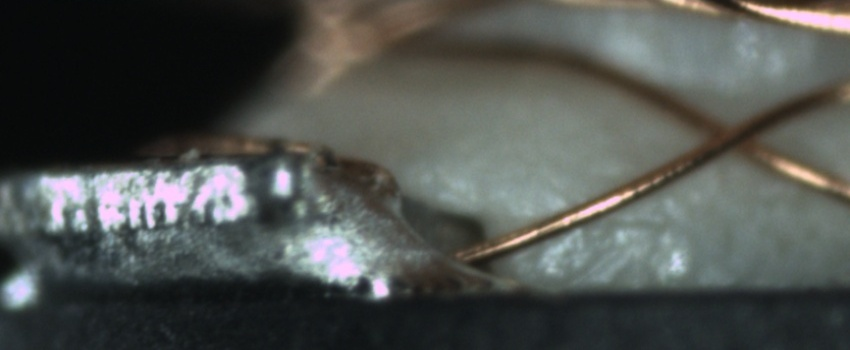CL: (683, 95, 783, 165)
DL: (559, 190, 700, 249)
TE: (135, 129, 373, 178)
